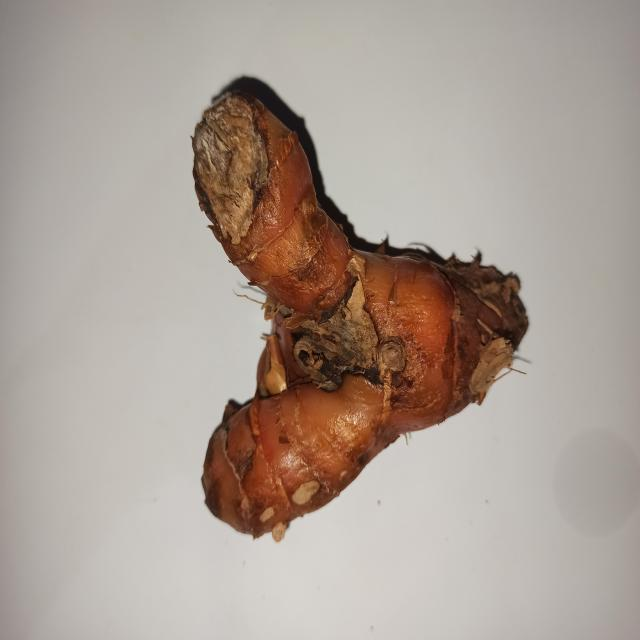ginger: (170, 83, 536, 520)
